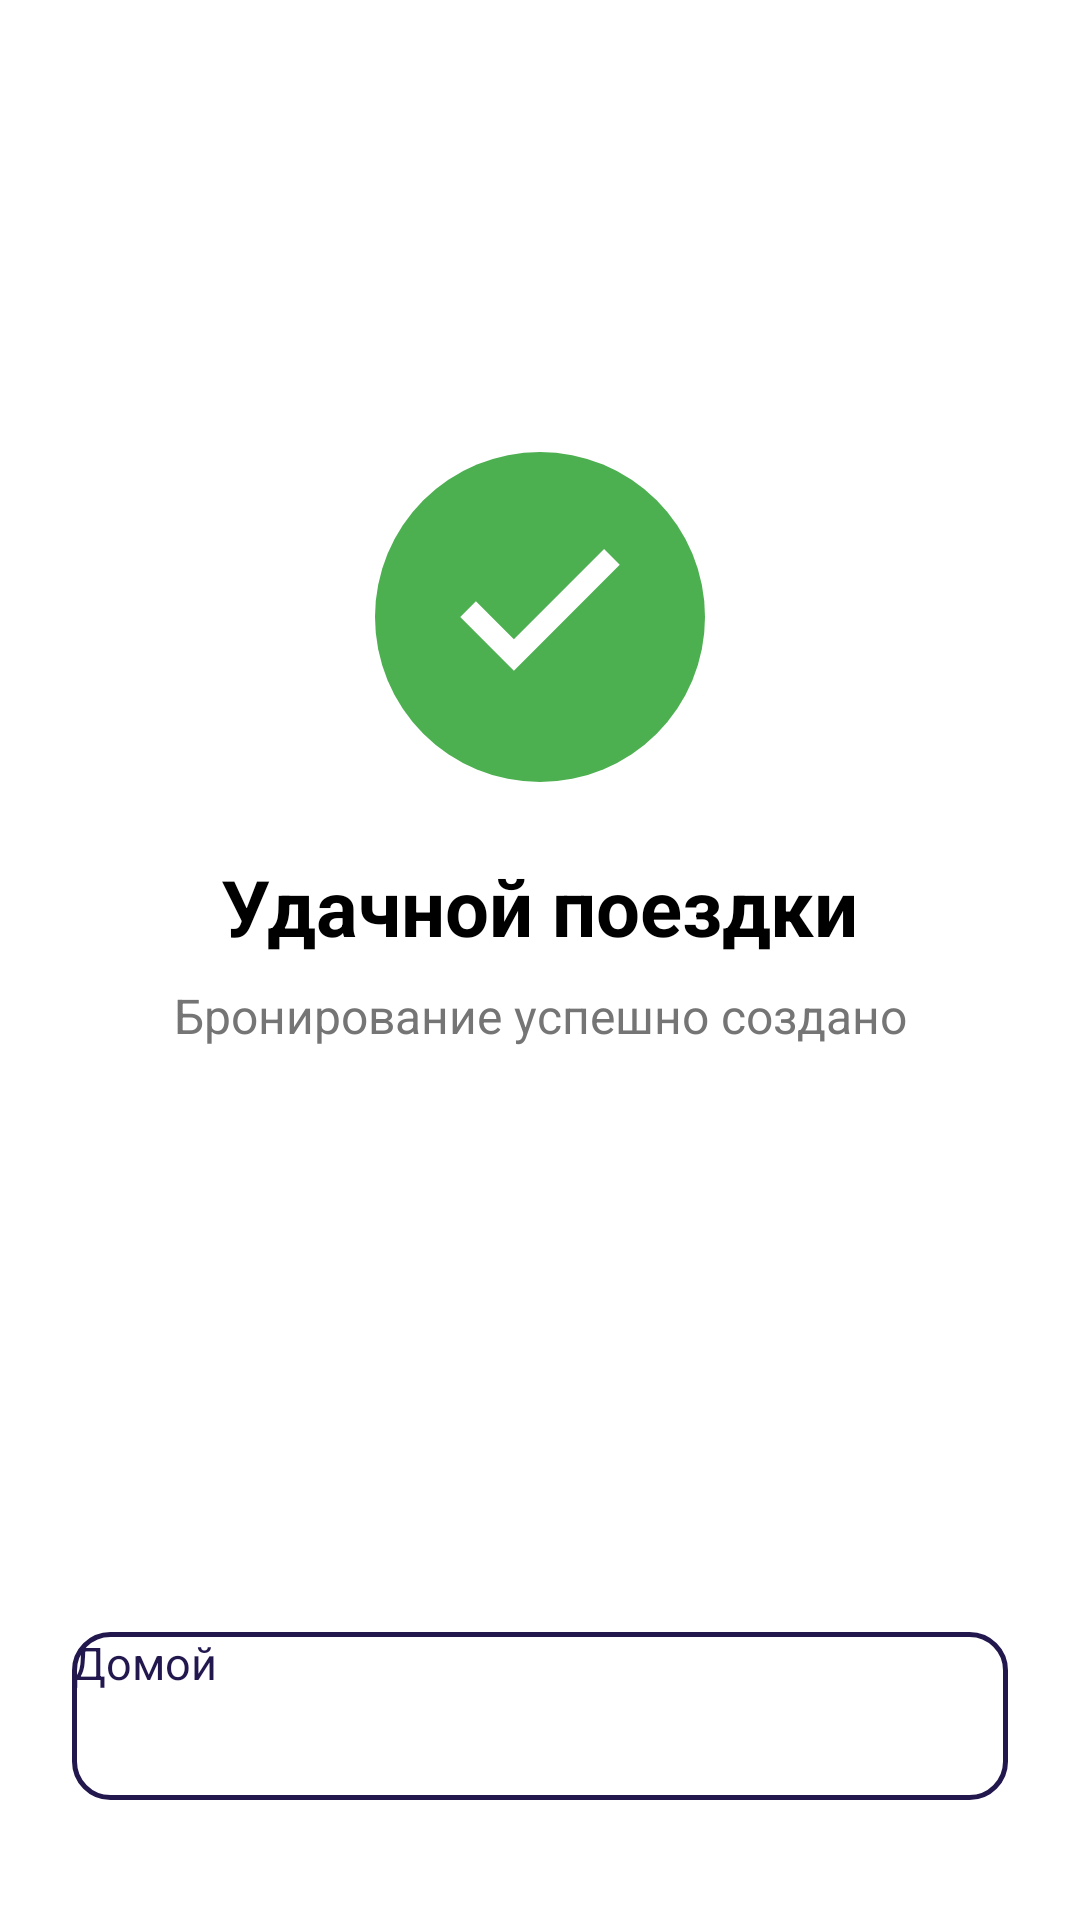

Where to tap for icons on this 1080 × 1920 app screen, as (x,y):
success circle: (540,617)
